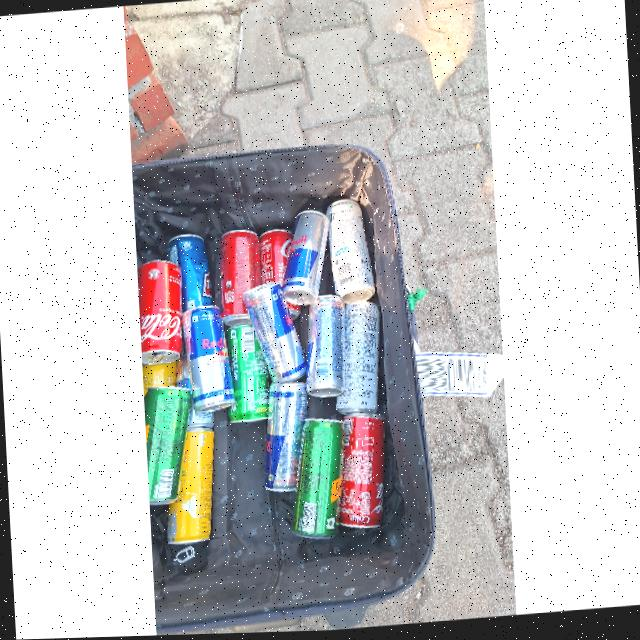Coca Cola: (338, 411, 397, 537), (137, 259, 180, 363), (258, 231, 296, 292)
Coca Cola Zero: (220, 233, 264, 319)
Redbull: (182, 310, 236, 411), (248, 287, 302, 379), (264, 384, 310, 490), (282, 213, 324, 307), (307, 300, 345, 397)
Redbull Yellow Edition: (160, 425, 221, 546), (142, 357, 185, 391)
Schweppes: (144, 387, 198, 499), (292, 429, 346, 539)
Sprite: (227, 323, 266, 422)
Thums Up: (166, 226, 215, 310)
White Monster: (337, 298, 388, 419), (331, 197, 380, 296)
